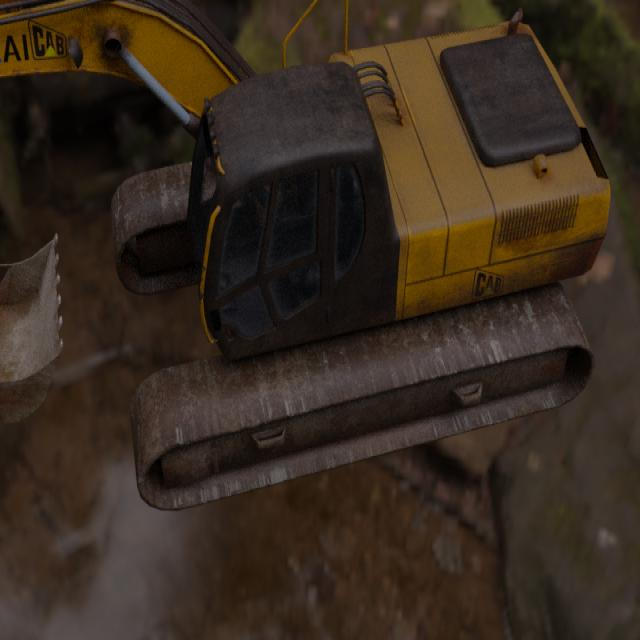excavator: (0, 0, 611, 512)
